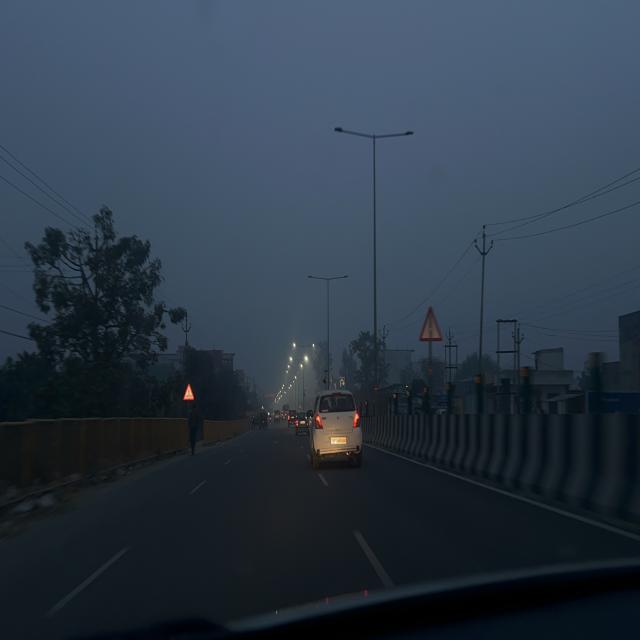PEDESTRIAN_CROSSING: (183, 383, 194, 401)
